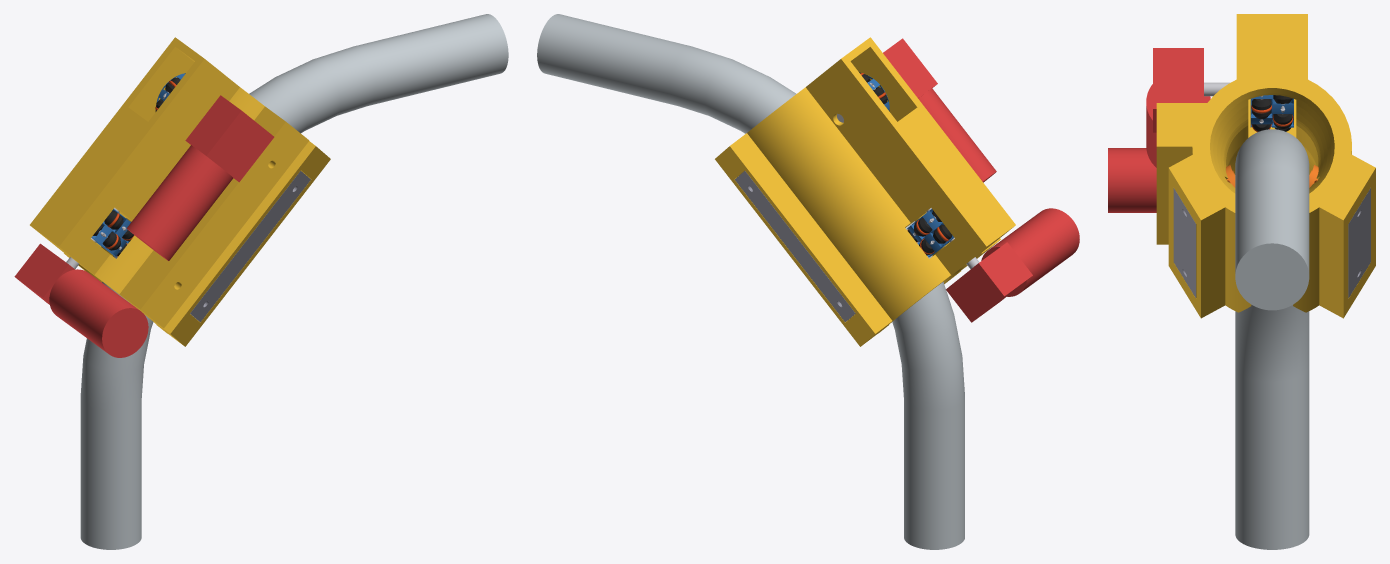
The model's file is cart-hand-corner-v5.glb.
The picture shows the model from 3 angles, left to right: view 1: azimuth 30°, elevation 25°; view 2: azimuth 150°, elevation 25°; view 3: azimuth 270°, elevation 25°; orthographic projection. The views are drawn at different scales.
Parts seen in each view (by area): view 1: hand_sleeve, track_pipe, drive_motor, roll_motor, drive_gearbox, m60_cap, roll_gearbox, roll_wheel_rollers; view 2: hand_sleeve, track_pipe, roll_motor, roll_gearbox, p60_cap, drive_motor, drive_gearbox, roll_wheel_rollers; view 3: hand_sleeve, track_pipe, roll_motor, drive_gearbox, m60_cap, p60_cap, drive_wheel_rollers, drive_motor, drive_wheel_hub.
Boxes of the visible parts, x1,y1,x2,y2 form: hand_sleeve: (30,37,330,346); track_pipe: (80,14,508,549); drive_motor: (126,145,233,260); roll_motor: (49,269,148,357); drive_gearbox: (185,95,274,182); m60_cap: (190,171,310,322); roll_gearbox: (14,243,74,304); roll_wheel_rollers: (93,211,133,255); hand_sleeve: (715,37,1015,346); track_pipe: (537,14,964,549); roll_motor: (981,208,1079,296); roll_gearbox: (946,242,1032,322); p60_cap: (734,171,855,322); drive_motor: (918,88,996,182); drive_gearbox: (883,38,937,98); roll_wheel_rollers: (908,210,952,255); hand_sleeve: (1156,14,1375,318); track_pipe: (1235,129,1309,549); roll_motor: (1108,148,1156,212); drive_gearbox: (1153,48,1203,132); m60_cap: (1173,188,1196,297); p60_cap: (1348,188,1370,298); drive_wheel_rollers: (1252,95,1292,131); drive_motor: (1146,84,1210,167); drive_wheel_hub: (1250,95,1293,127).
Bounding box in the file's own units: 280 × 270 × 116.
